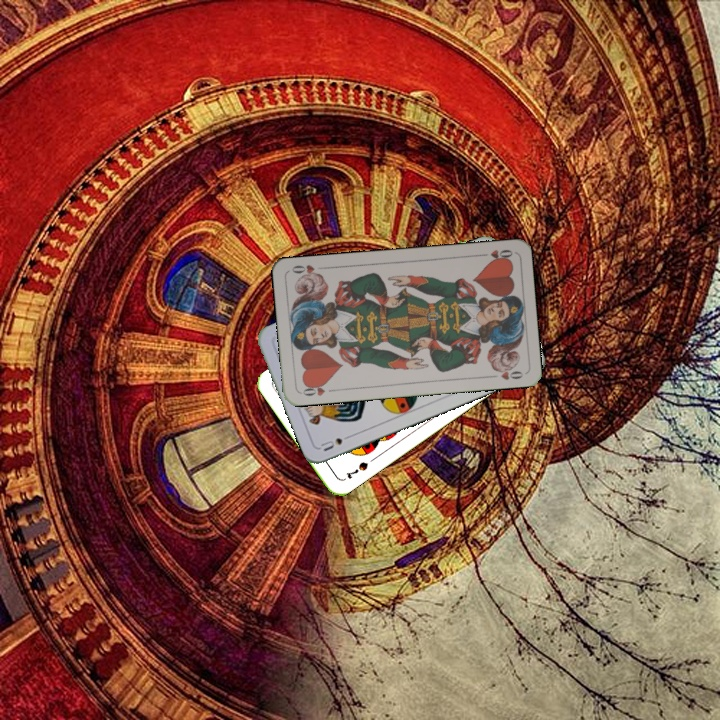HO: (299, 379, 338, 399), (475, 245, 515, 264)
S7: (342, 458, 371, 481)
SU: (316, 430, 355, 454)
